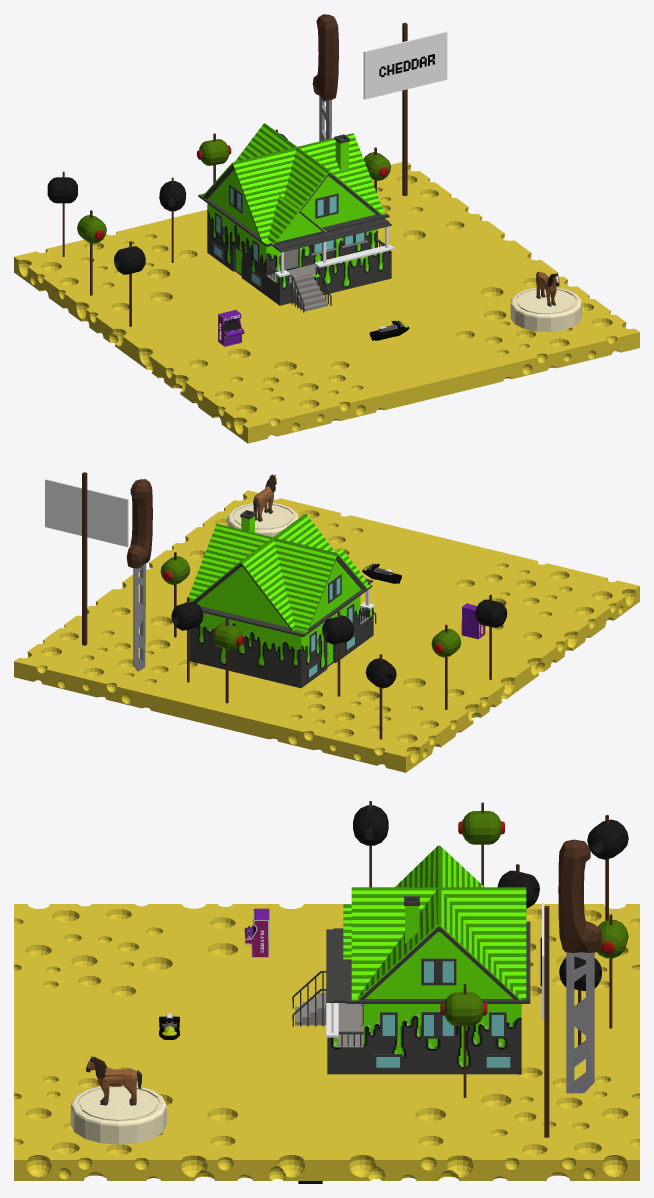
3 renders of one model, top to bottom at view 1: azimuth 30°, elevation 25°; view 2: azimuth 150°, elevation 25°; view 3: azimuth 270°, elevation 25°, orthographic. The views are drawn at different scales.
Parts seen in each view (by area): view 1: Cube.022, Cube.754, Cube.023, Cylinder.016, Cube.024, Sphere.017, Sphere.016, Sphere.020, Sphere.018, OBJRANDOM_ARCADE, Sphere.022, Sphere.019 (+1 smaller); view 2: Cube.022, Cube.754, Cube.023, Cube.024, Cylinder.016, Sphere.020, Sphere.016, Sphere.022, Sphere.017, Sphere.021, Sphere.018, Sphere.019 (+3 smaller); view 3: Cube.022, Cube.754, Cube.024, Cylinder.016, Cube.023, Sphere.019, Sphere.016, Sphere.018, Sphere.017, ANIMAL_CABALLO, Sphere.022, OBJRANDOM_ARCADE (+2 smaller).
Part boxes in pixels (x1,y1,x2,y2): Cube.022: [14, 162, 639, 443]; Cube.754: [198, 123, 394, 312]; Cube.023: [363, 22, 447, 196]; Cylinder.016: [510, 287, 581, 331]; Cube.024: [312, 14, 338, 141]; Sphere.017: [114, 241, 145, 326]; Sphere.016: [47, 171, 77, 256]; Sphere.020: [159, 177, 186, 262]; Sphere.018: [77, 210, 106, 295]; OBJRANDOM_ARCADE: [218, 309, 244, 346]; Sphere.022: [196, 133, 231, 183]; Sphere.019: [364, 147, 390, 192]; Cube.022: [14, 490, 639, 772]; Cube.754: [185, 510, 376, 688]; Cube.023: [45, 472, 128, 645]; Cube.024: [126, 479, 152, 671]; Cylinder.016: [227, 502, 298, 537]; Sphere.020: [322, 611, 353, 696]; Sphere.016: [365, 654, 396, 739]; Sphere.022: [212, 618, 243, 703]; Sphere.017: [475, 594, 507, 679]; Sphere.021: [171, 597, 203, 682]; Sphere.018: [431, 624, 461, 709]; Sphere.019: [160, 552, 190, 637]; Cube.022: [14, 904, 639, 1180]; Cube.754: [292, 845, 530, 1074]; Cube.024: [558, 839, 601, 1093]; Cylinder.016: [70, 1085, 166, 1144]; Cube.023: [540, 902, 549, 1137]; Sphere.019: [440, 984, 487, 1097]; Sphere.016: [587, 815, 628, 920]; Sphere.018: [458, 802, 504, 885]; Sphere.017: [353, 801, 388, 887]; ANIMAL_CABALLO: [86, 1056, 142, 1105]; Sphere.022: [597, 914, 628, 1028]; OBJRANDOM_ARCADE: [244, 908, 269, 957].
Bounding box in the file's own units: 3917 × 2015 × 4000.
Materials: 37 (4 with a texture image).
